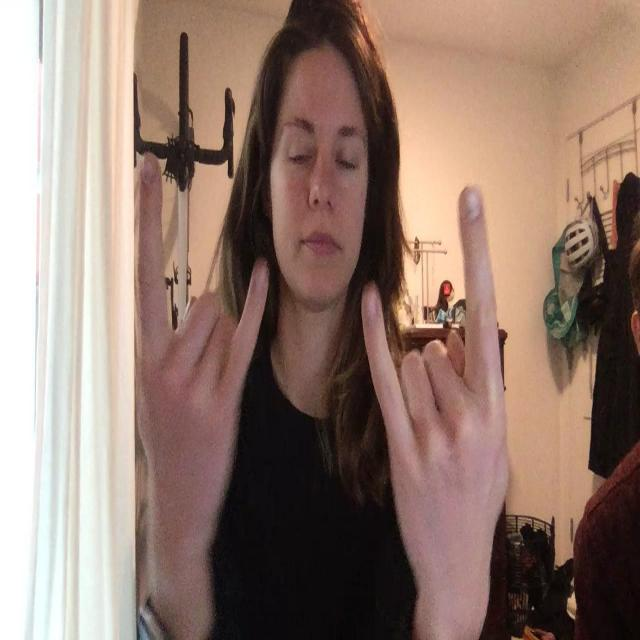face: (271, 68, 371, 310)
